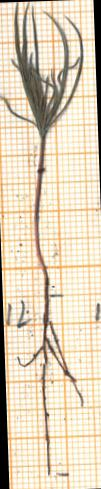flower: (0, 2, 82, 136)
root: (18, 298, 83, 474)
stem: (34, 136, 48, 298)
